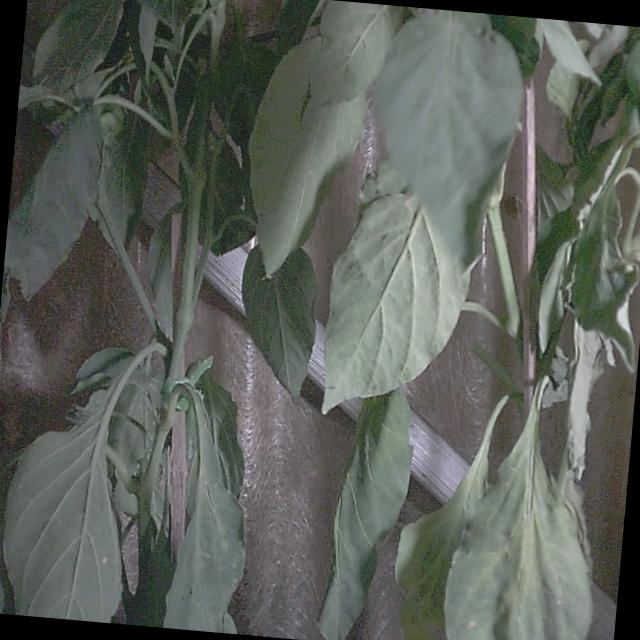Leaf: (445, 379, 592, 639), (375, 11, 522, 264), (323, 195, 469, 412), (249, 38, 366, 275), (395, 397, 507, 639), (4, 412, 121, 622), (319, 389, 411, 639), (163, 389, 244, 632), (4, 110, 102, 298), (242, 246, 316, 396), (310, 0, 399, 104), (90, 117, 150, 255), (34, 0, 124, 91), (567, 323, 603, 481), (537, 18, 600, 84), (147, 212, 174, 340), (74, 347, 133, 393), (138, 0, 198, 27), (626, 42, 639, 106)
